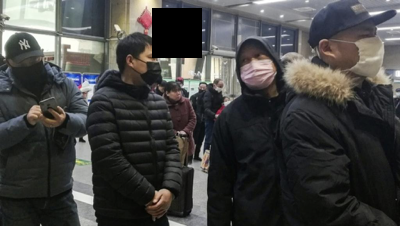with_mask: (336, 32, 386, 78), (239, 53, 278, 91), (12, 58, 45, 86), (135, 53, 164, 83), (215, 80, 224, 94), (223, 97, 232, 107), (199, 85, 208, 94)
without_mask: (170, 89, 182, 103)
